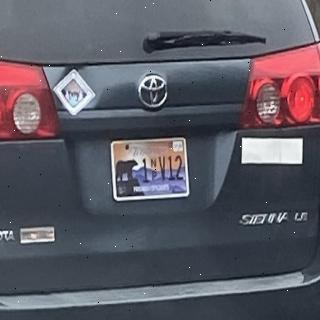license: (111, 136, 192, 203)
